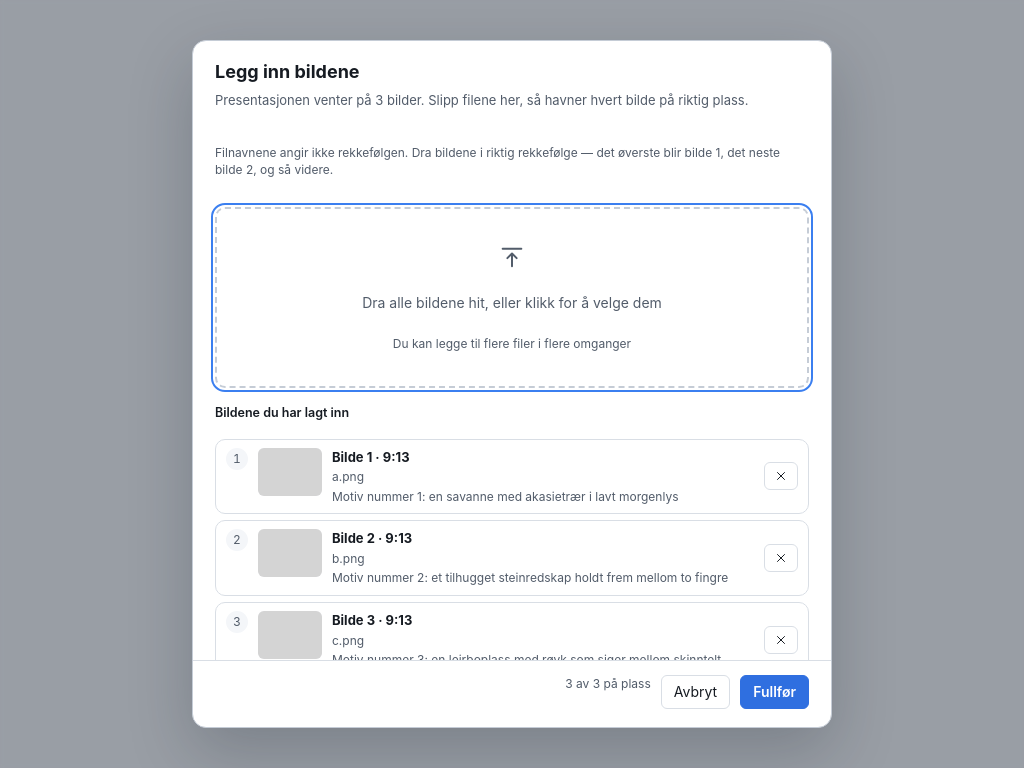
Test: ImageDepositModal – rekkefølgen fra brukeren › ber om en bekreftelse på rekkefølgen, og mister den når rekkefølgen endres
This screenshot has width=1024, height=768.
Earlier steps of the test are not shown.
Expected: the button with test id "image-deposit-finish" is enabled, x1=740 y1=675 x2=809 y2=709
Press the mouse on the list item that starts with "Bilde 3" at (512, 640), box x1=215 y1=602 x2=809 y2=677
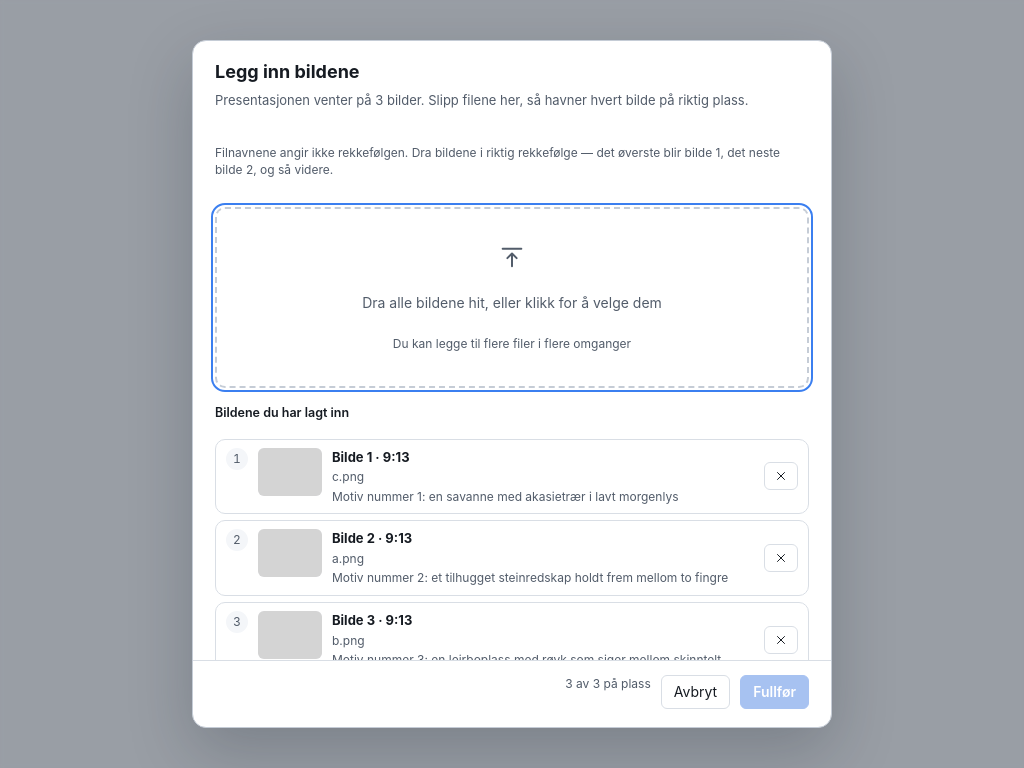
Now the button with test id "image-deposit-finish" is disabled, box x1=740 y1=675 x2=809 y2=709
